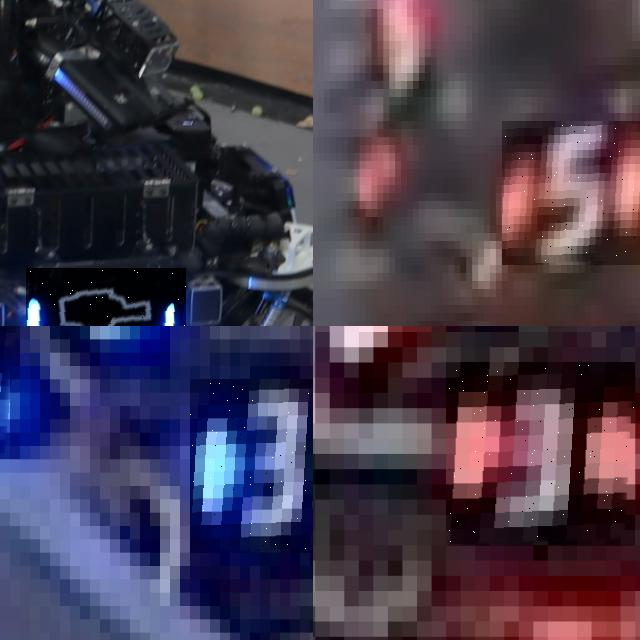B3: (190, 379, 313, 552)
Bs: (25, 268, 186, 326)
R3: (446, 362, 635, 546)
R5: (502, 121, 640, 265)
